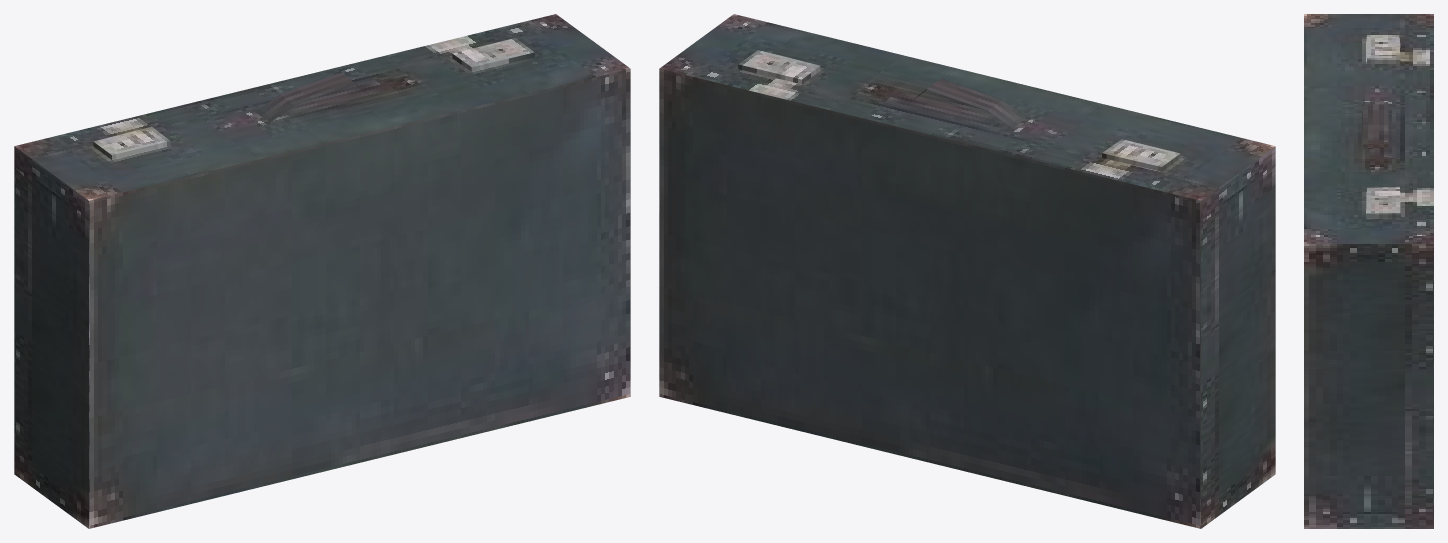
Rendered from suitcase.glb.
The picture shows the model from 3 angles, left to right: view 1: azimuth 30°, elevation 25°; view 2: azimuth 150°, elevation 25°; view 3: azimuth 270°, elevation 25°; orthographic projection. The views are drawn at different scales.
Visible parts, largest first — view 1: Cube_Case_0; view 2: Cube_Case_0; view 3: Cube_Case_0.
Boxes of the visible parts, x1,y1,x2,y2 form: Cube_Case_0: (14, 14, 630, 528); Cube_Case_0: (659, 14, 1275, 528); Cube_Case_0: (1304, 14, 1433, 528).
Size of the model in its own units: 3.46 by 2.12 by 0.8253.
Materials: 1 (1 with a texture image).
